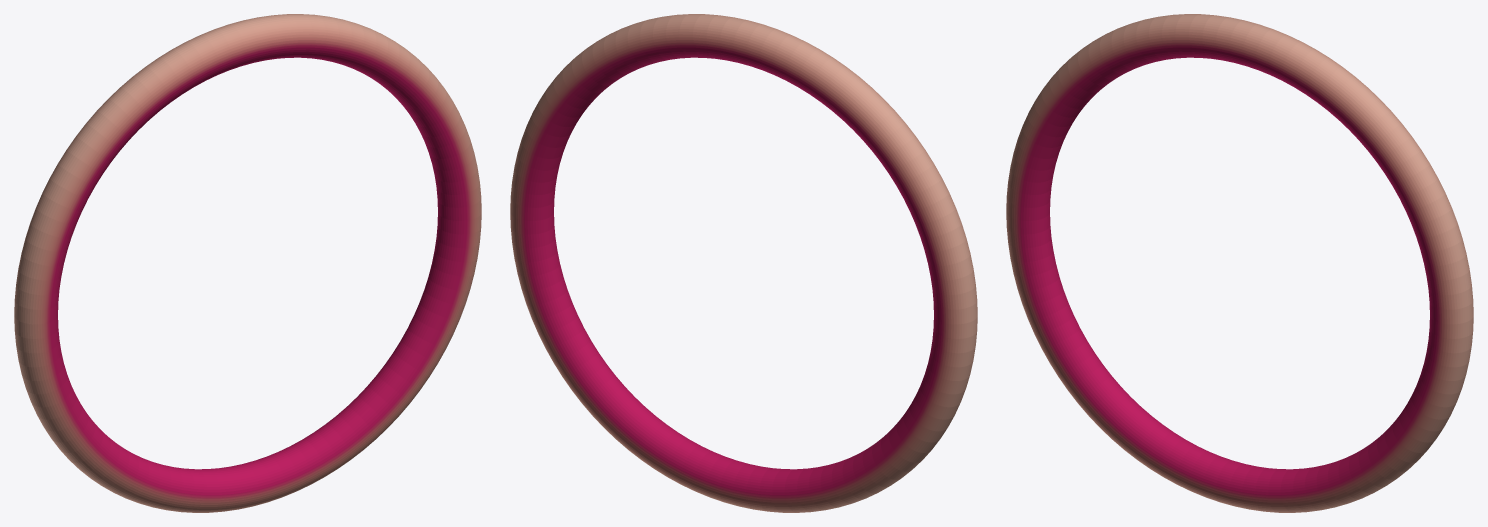
The picture shows the model from 3 angles, left to right: view 1: azimuth 30°, elevation 25°; view 2: azimuth 150°, elevation 25°; view 3: azimuth 330°, elevation 25°; orthographic projection.
Parts seen in each view (by area): view 1: world; view 2: world; view 3: world.
Boxes of the visible parts, left/top/right/bottom form: world: left=14, top=14, right=481, bottom=512; world: left=510, top=14, right=977, bottom=512; world: left=1006, top=14, right=1473, bottom=512.
Size of the model in its own units: 27.6 by 27.6 by 2.26.
